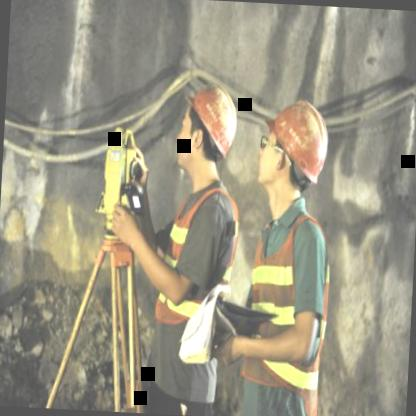helmet: (262, 90, 336, 200), (172, 77, 245, 183)
